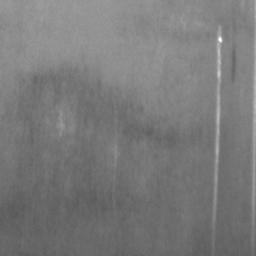Bright scratch: (214, 26, 224, 219)
